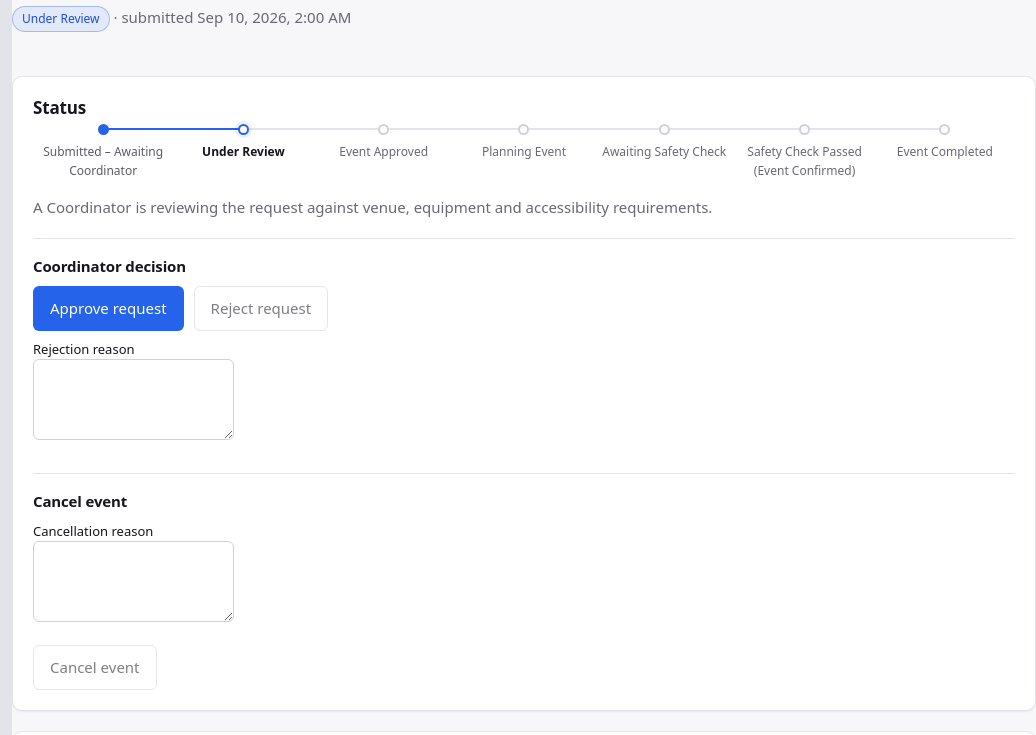
Test case: Coordinator decisions › approves the assigned request and refreshes its activity
Click the button "Approve request": (108, 309) left=33, top=286, right=184, bottom=331
(page scrolled)
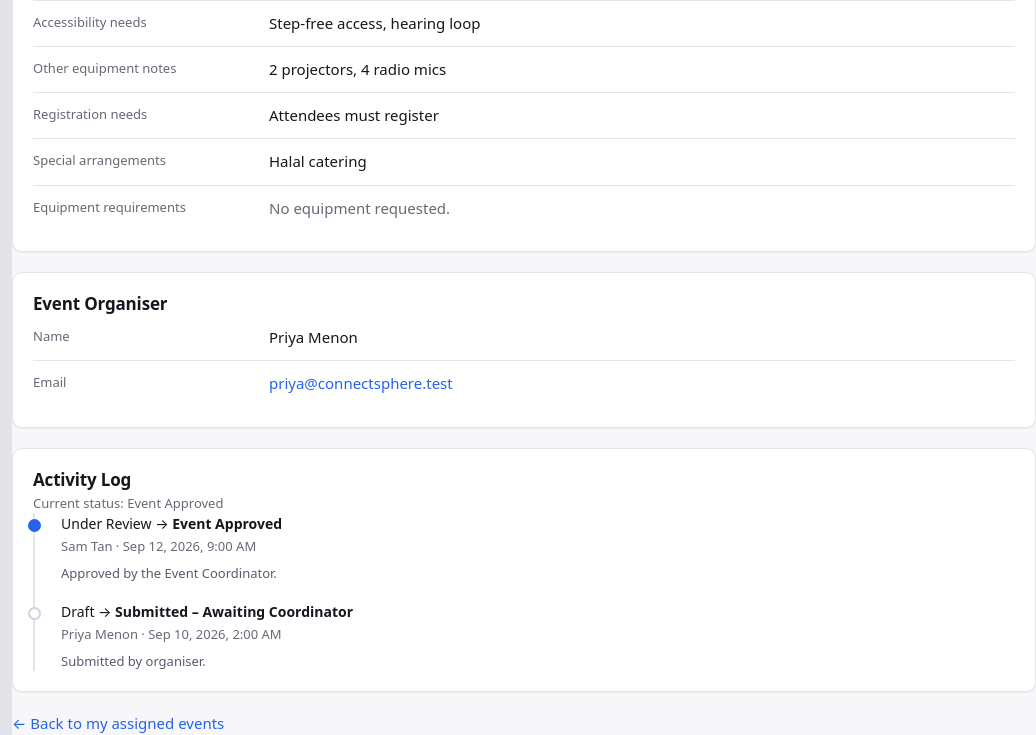
Check: the button "Approve request" is gone
Check: the text "Approved by the Event Coordinator." is shown, box left=61, top=564, right=277, bottom=582
